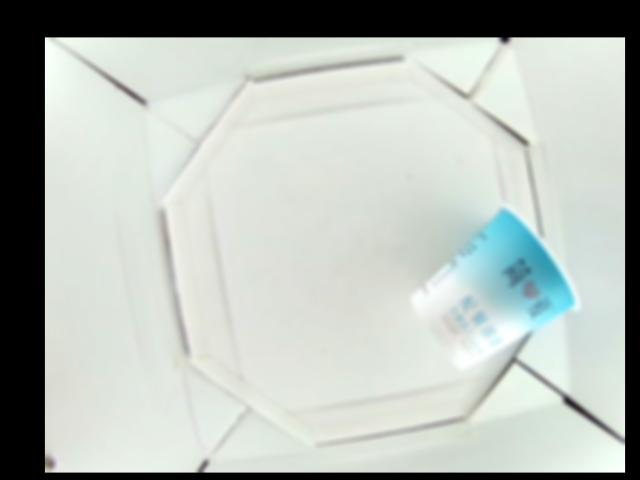Cup: (411, 199, 584, 368)
